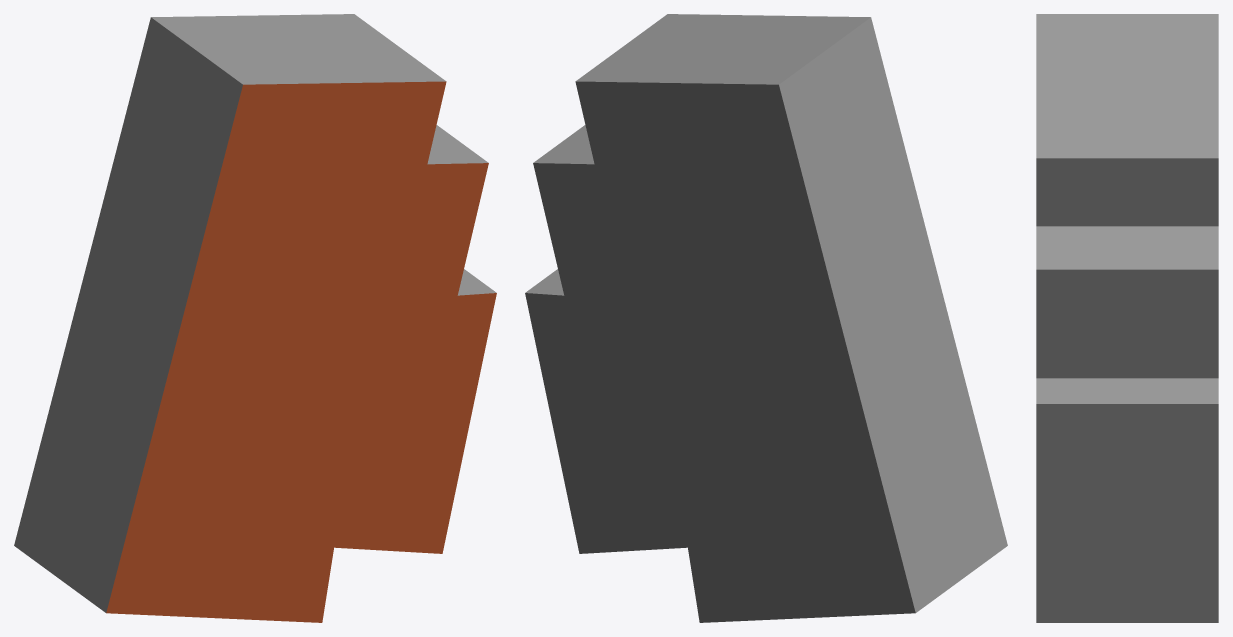
Rendered from construction_1869_assumed_A_Casa_h6m.obj.
3 renders of one model, left to right at view 1: azimuth 30°, elevation 25°; view 2: azimuth 150°, elevation 25°; view 3: azimuth 270°, elevation 25°, orthographic.
Parts seen in each view (by area): view 1: construction_1869_assumed_A_Casa; view 2: construction_1869_assumed_A_Casa; view 3: construction_1869_assumed_A_Casa.
Part boxes in pixels (<box>): construction_1869_assumed_A_Casa: <box>14,14,496,622</box>; construction_1869_assumed_A_Casa: <box>525,14,1007,622</box>; construction_1869_assumed_A_Casa: <box>1036,14,1218,622</box>.
Size of the model in its own units: 14.68 by 20.01 by 6.
